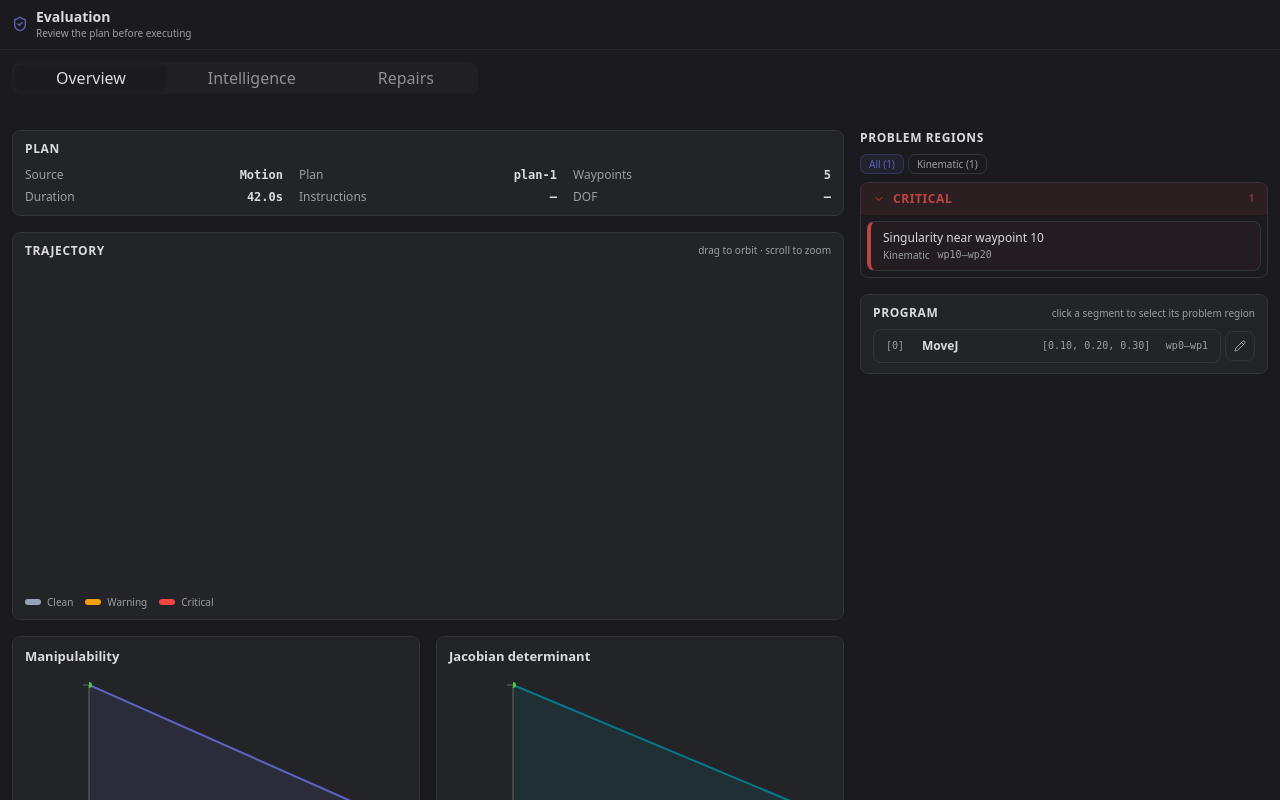
Test case: EvaluationWorkspace — intelligence tab (evaluation-intelligence-tab) › reveals the composed intelligence view when the Intelligence tab is activated
Click the tab "Intelligence".
click(252, 78)  # box x1=167 y1=65 x2=337 y2=90
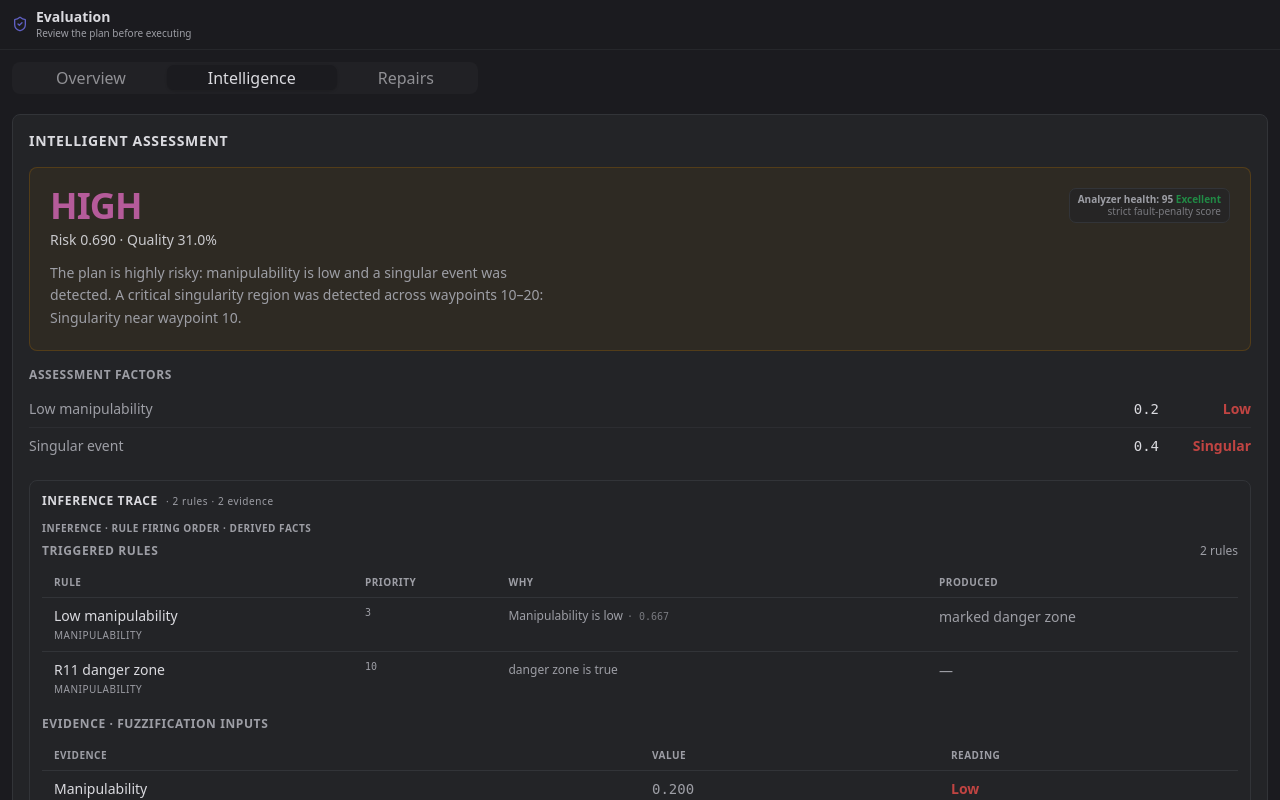
Check: the element with test id "intelligent-assessment" is shown
Check: the text with test id "verdict-risk-word" reads "high", box x1=50 y1=180 x2=142 y2=230
Check: the text "Risk 0.690 · Quality 31.0%" is shown, box x1=50 y1=230 x2=217 y2=248
